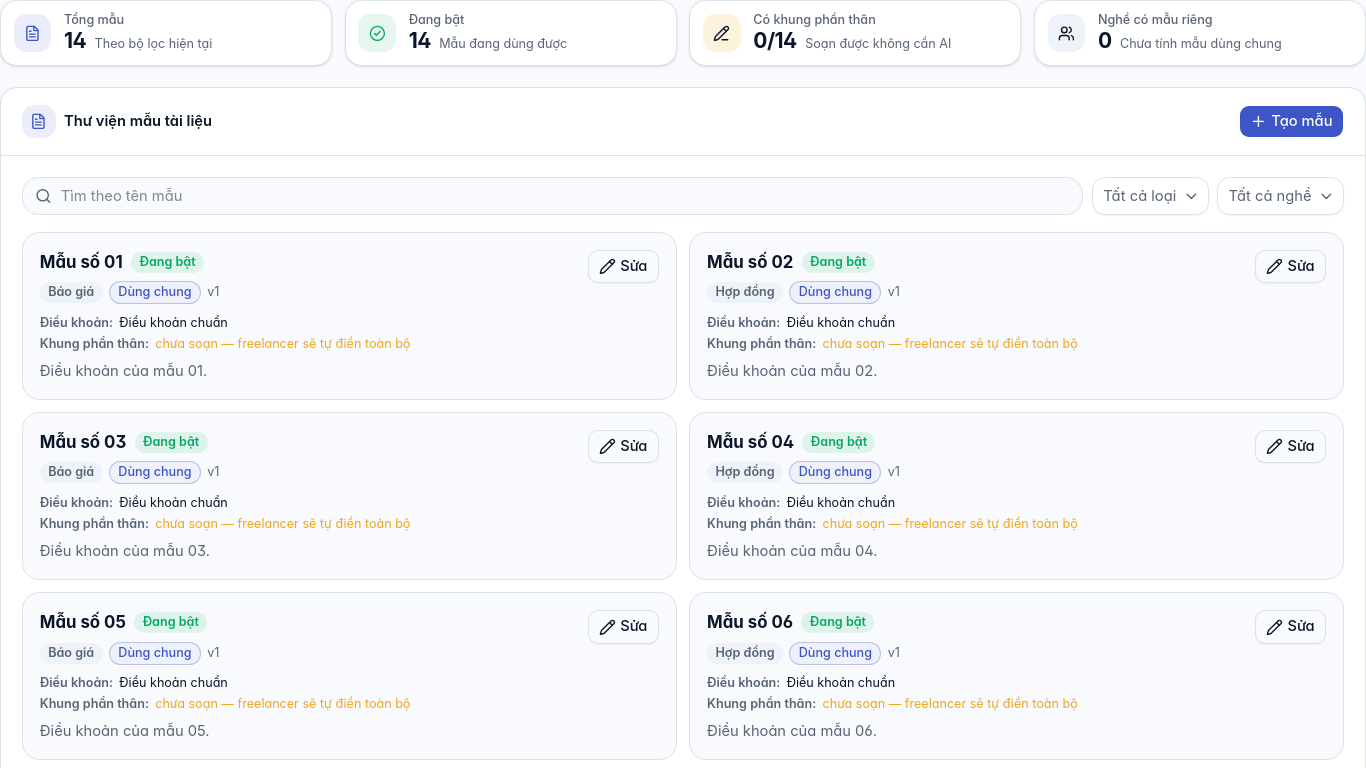
Scenario: <AdminTemplatesPage /> — tìm theo tên › kết quả tìm dài vẫn chia trang
The width and height of the screenshot is (1366, 768).
Type "mau" into the field named "Tìm mẫu theo tên".
click(553, 196); type("mau")  # box [22,177,1083,215]
(page scrolled)
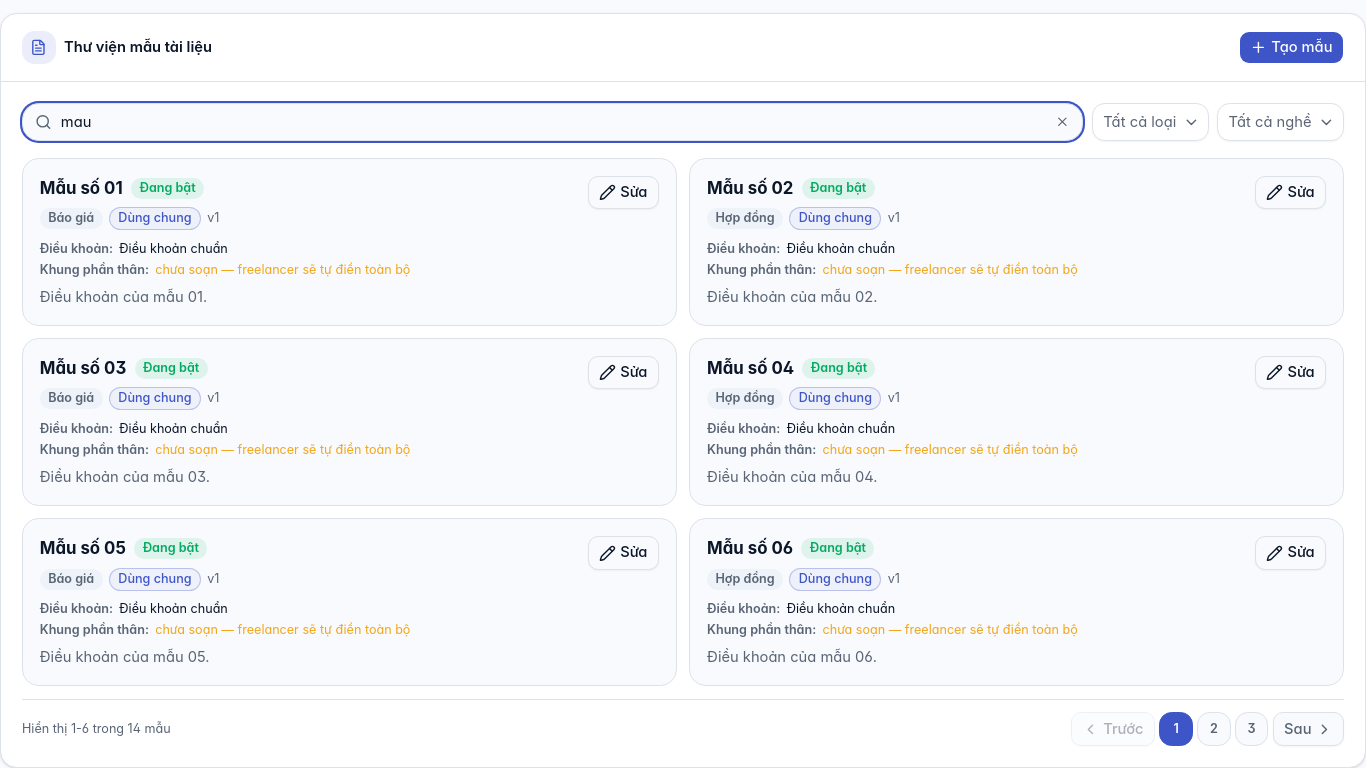
Click the button named "Trang 2".
click(1214, 729)  # box [1197,712,1231,746]
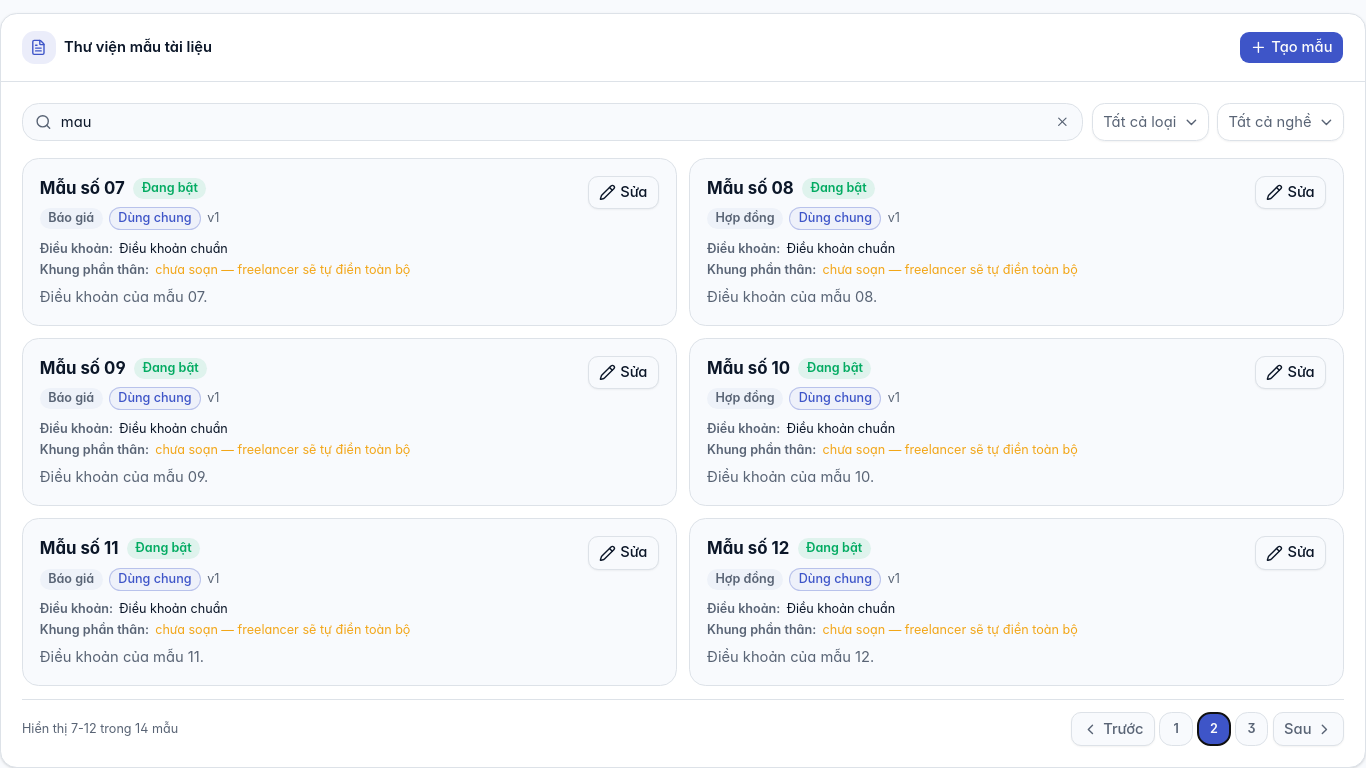
Now the text "Hiển thị 7-12 trong 14 mẫu" is shown, box [22,721,178,738]
